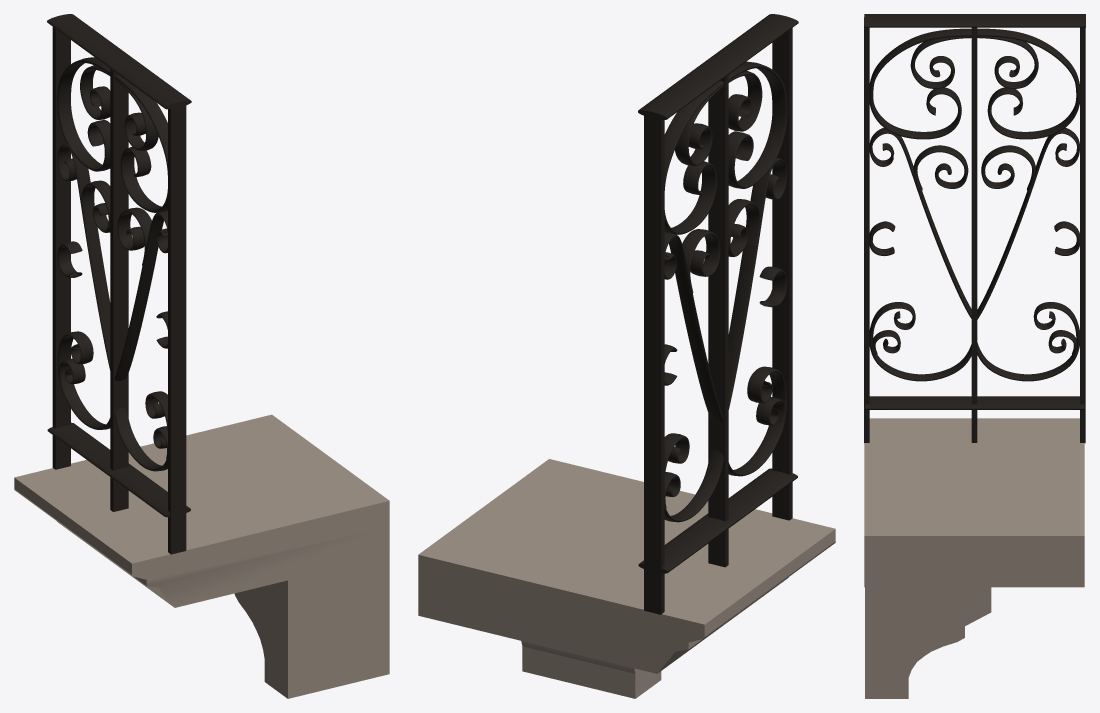
The model's file is Right_Back_side_spiral_balcony.fbx.
3 renders of one model, left to right at view 1: azimuth 30°, elevation 25°; view 2: azimuth 150°, elevation 25°; view 3: azimuth 270°, elevation 25°, orthographic. The views are drawn at different scales.
Visible parts, largest first — view 1: polySurface187; view 2: polySurface187; view 3: polySurface187.
Boxes of the visible parts, bbox=[...] form: polySurface187: bbox=[14, 14, 389, 698]; polySurface187: bbox=[418, 14, 835, 698]; polySurface187: bbox=[864, 14, 1085, 698].
Size of the model in its own units: 2.54 by 5.86 by 2.02.
